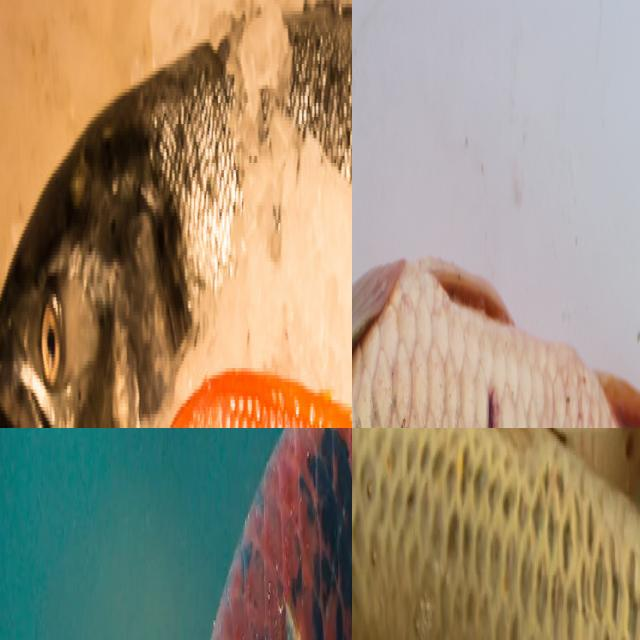fish: (0, 0, 352, 428), (352, 37, 640, 428)
